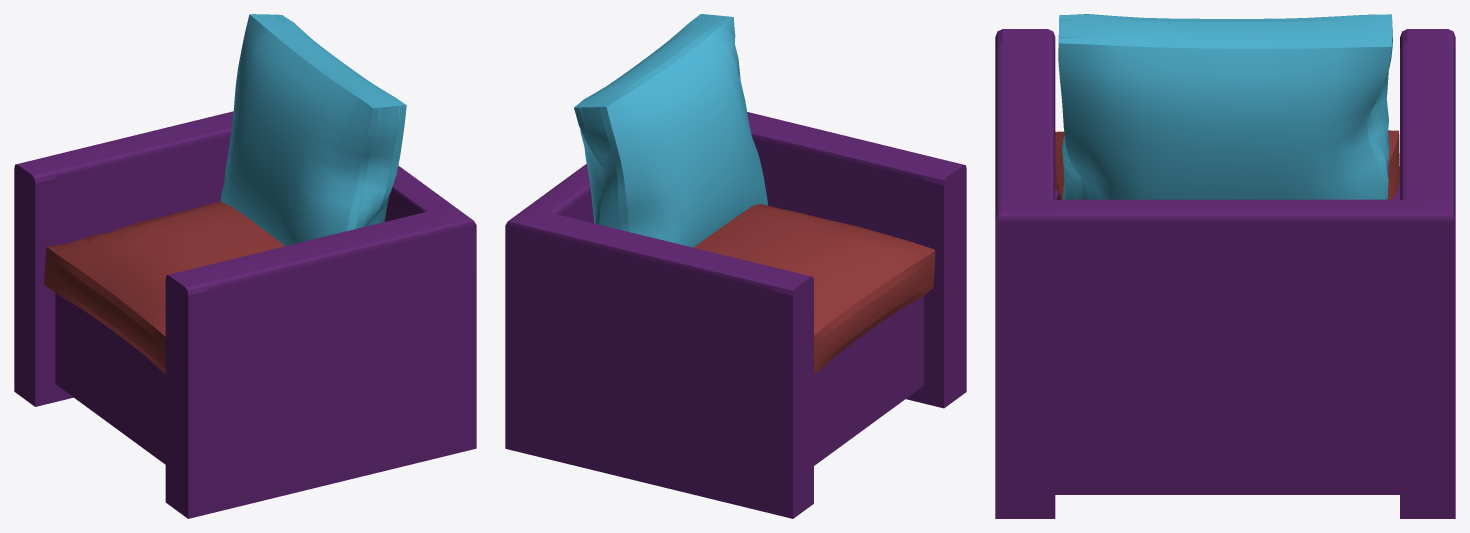
Rendered from Sillon.fbx.
The picture shows the model from 3 angles, left to right: view 1: azimuth 30°, elevation 25°; view 2: azimuth 150°, elevation 25°; view 3: azimuth 270°, elevation 25°; orthographic projection. The views are drawn at different scales.
Parts seen in each view (by area): view 1: Sillón; view 2: Sillón; view 3: Sillón.
Part boxes in pixels (bbox=[...]): Sillón: bbox=[14, 14, 476, 518]; Sillón: bbox=[505, 14, 966, 518]; Sillón: bbox=[995, 14, 1455, 518].
Size of the model in its own units: 81.47 by 92.75 by 85.08.
